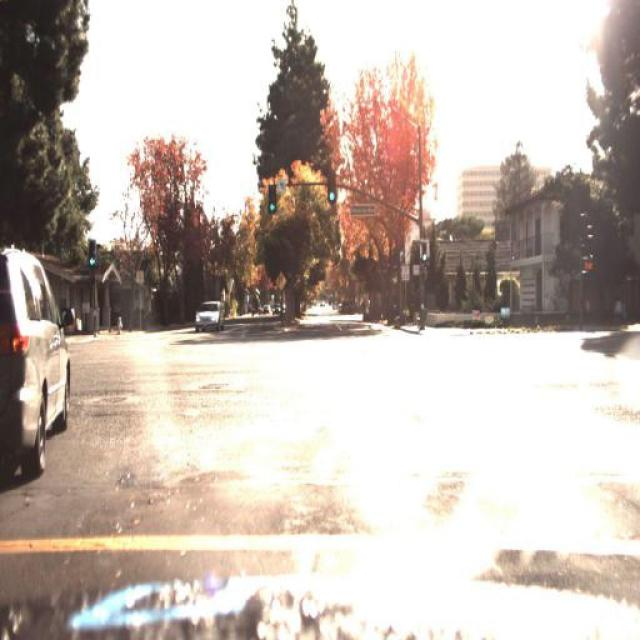semaforo: (87, 239, 97, 270), (327, 170, 336, 204), (267, 184, 277, 214)
